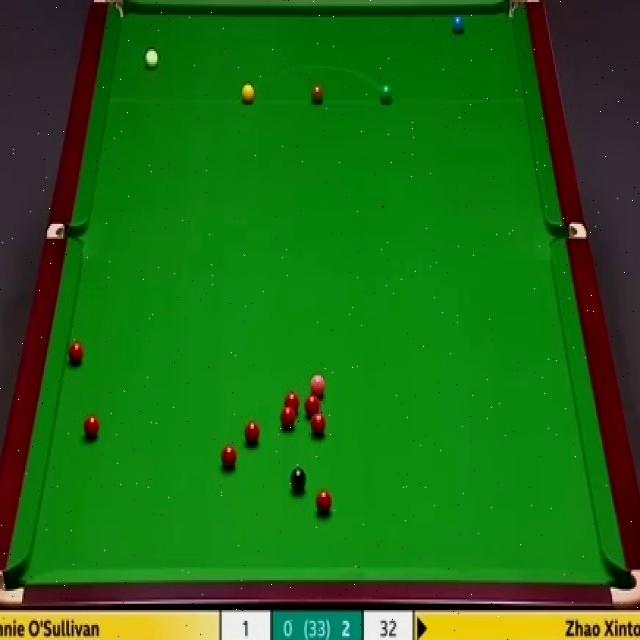black-ball: (290, 467, 308, 492)
blue-ball: (451, 12, 464, 34)
brown-ball: (311, 84, 325, 105)
green-ball: (378, 83, 394, 106)
pink-ball: (310, 372, 327, 398)
red-ball: (83, 411, 99, 440), (279, 406, 298, 430), (242, 419, 260, 444), (310, 411, 326, 437), (220, 445, 238, 468), (68, 342, 85, 366), (305, 394, 321, 419), (284, 391, 301, 413), (317, 489, 331, 513)
white-ball: (144, 48, 158, 68)
yellow-ball: (240, 83, 256, 104)
